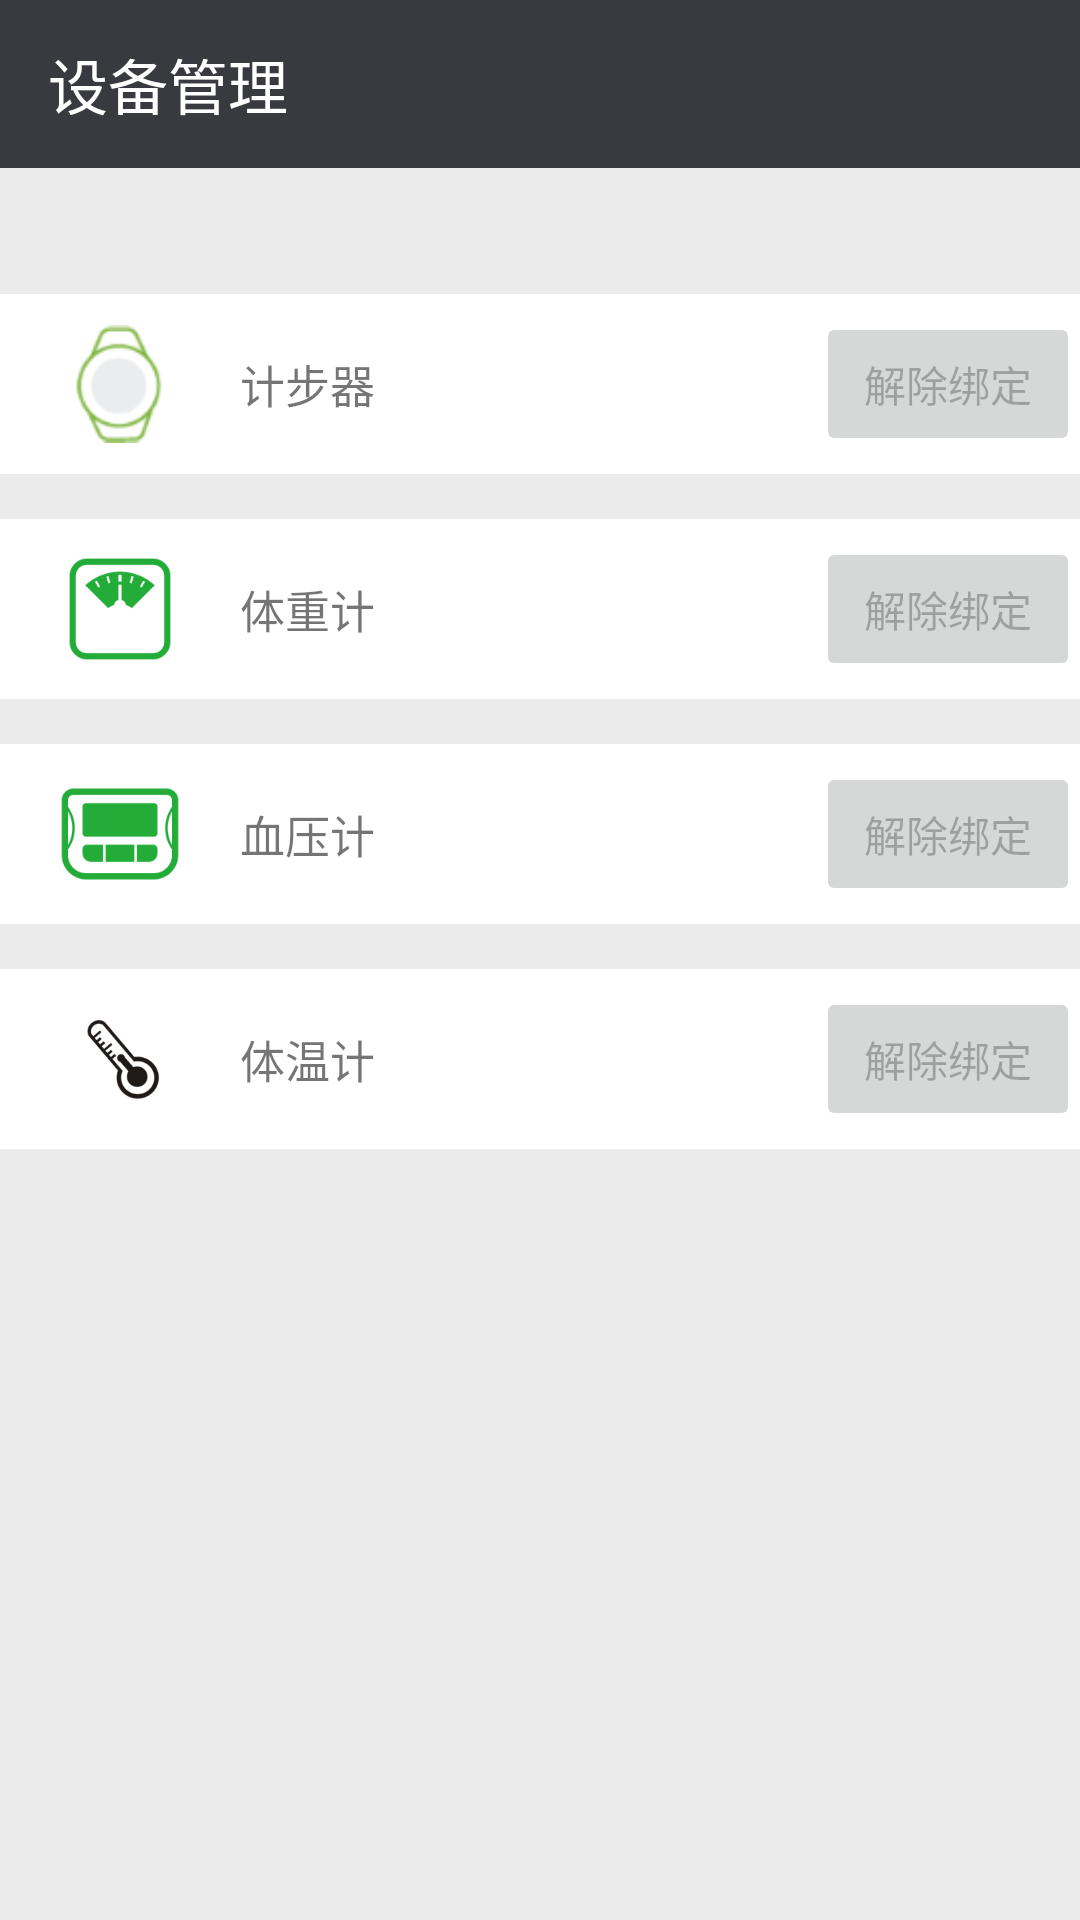

Point at icon controls on the screen. Image size 1080×1920, points as [x,y].
yd peijian: [119,384]
